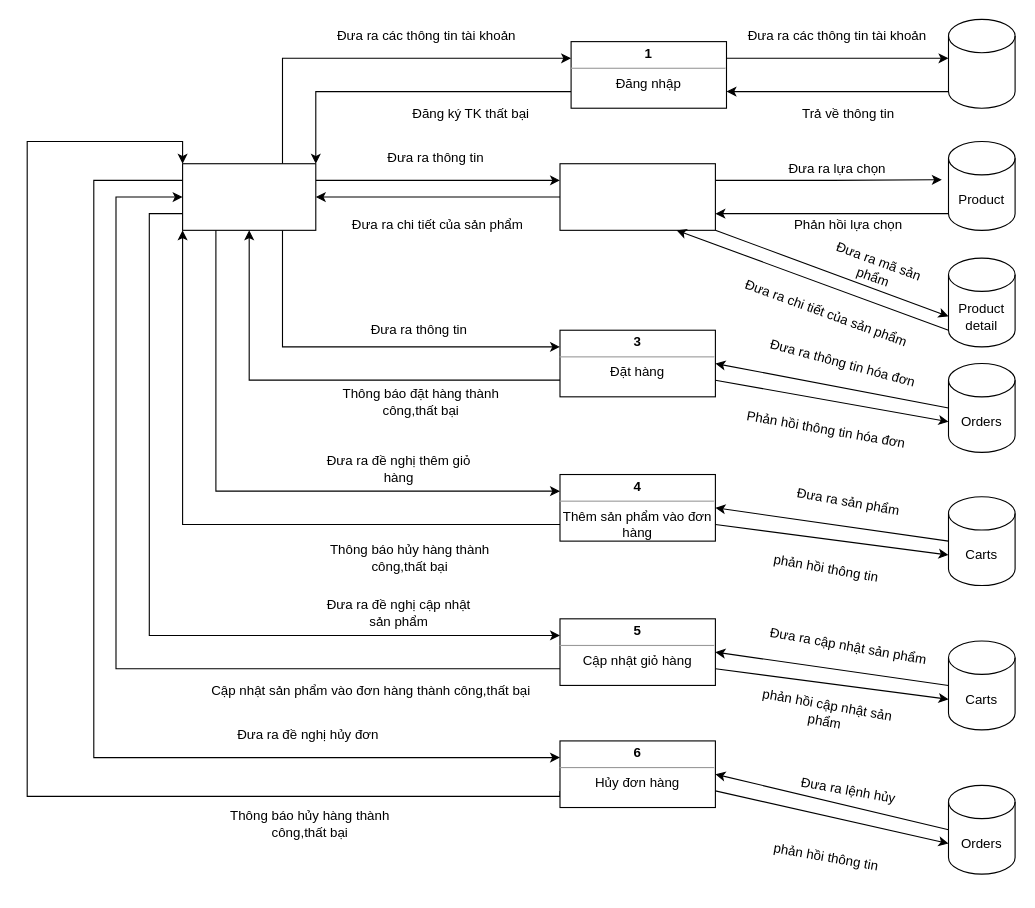
Some shapes in this 1035 by 908 pixel diagram are drawn without their labels. Here are the shapes that lost their labels. From the top down, the centre of each, then its label:
At point 981,63: "Account".
At point 248,196: "Khách hàng có tài khoản".
At point 637,196: "2 Xem ds sản phẩm".
